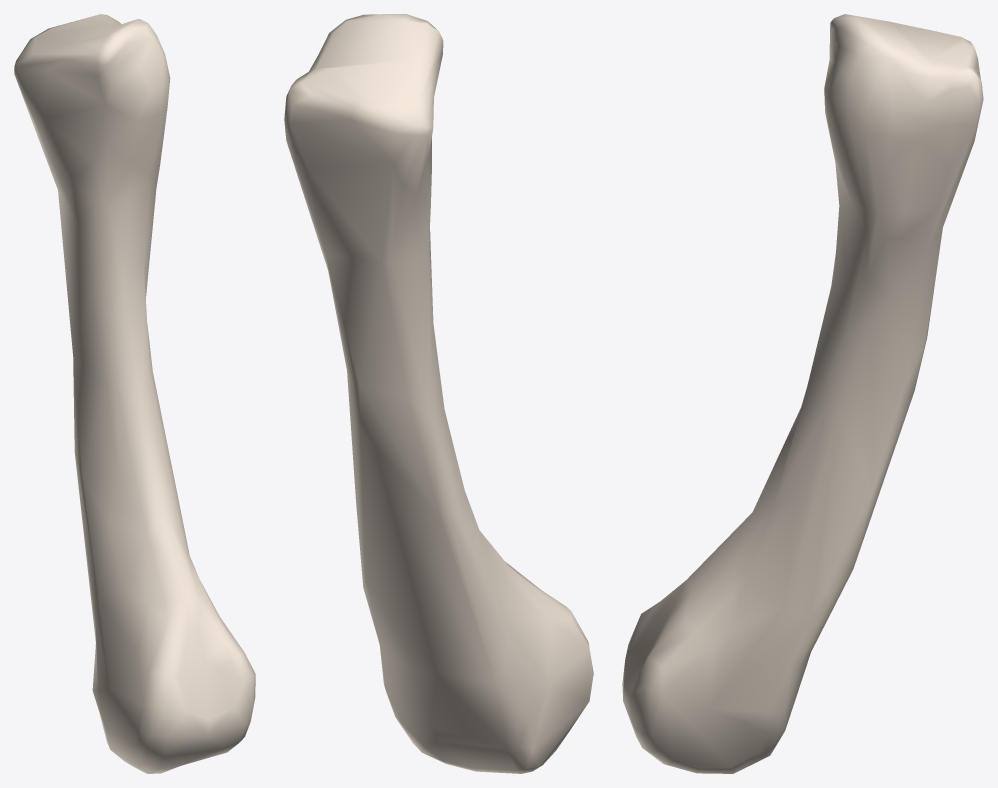
File: left_metacarpal_4.glb
3 renders of one model, left to right at view 1: azimuth 30°, elevation 25°; view 2: azimuth 150°, elevation 25°; view 3: azimuth 270°, elevation 25°, orthographic. The views are drawn at different scales.
Parts seen in each view (by area): view 1: 4th metacarpal bone.r; view 2: 4th metacarpal bone.r; view 3: 4th metacarpal bone.r.
Part boxes in pixels (left/top/right/bottom): 4th metacarpal bone.r: left=14, top=14, right=255, bottom=773; 4th metacarpal bone.r: left=284, top=14, right=593, bottom=773; 4th metacarpal bone.r: left=622, top=14, right=983, bottom=773.
Size of the model in its own units: 0.0124 by 0.0617 by 0.0268.
